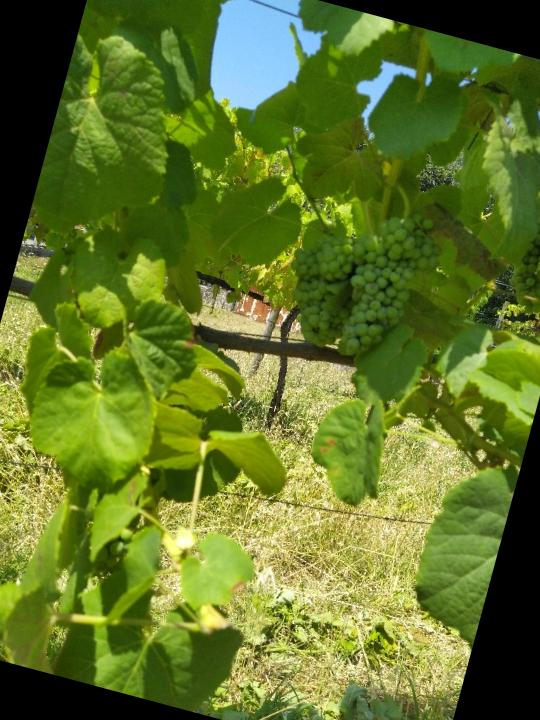grape: (330, 199, 451, 375), (269, 226, 371, 355)
